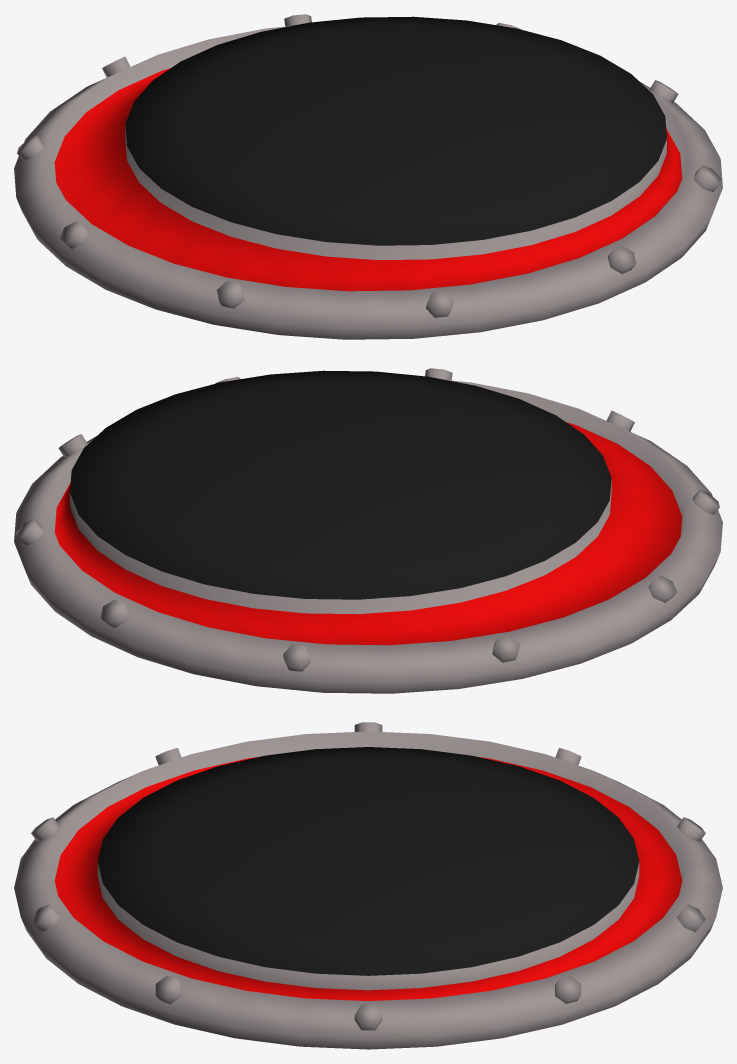
Rendered from EscudoEclipse.fbx.
The picture shows the model from 3 angles, top to bottom: view 1: azimuth 30°, elevation 25°; view 2: azimuth 150°, elevation 25°; view 3: azimuth 270°, elevation 25°; orthographic projection.
Visible parts, largest first — view 1: EscudoEclipse; view 2: EscudoEclipse; view 3: EscudoEclipse.
Boxes of the visible parts, <box> form: EscudoEclipse: <box>14,14,722,339</box>; EscudoEclipse: <box>14,368,722,693</box>; EscudoEclipse: <box>14,722,722,1049</box>.
Size of the model in its own units: 115 by 16.29 by 115.
